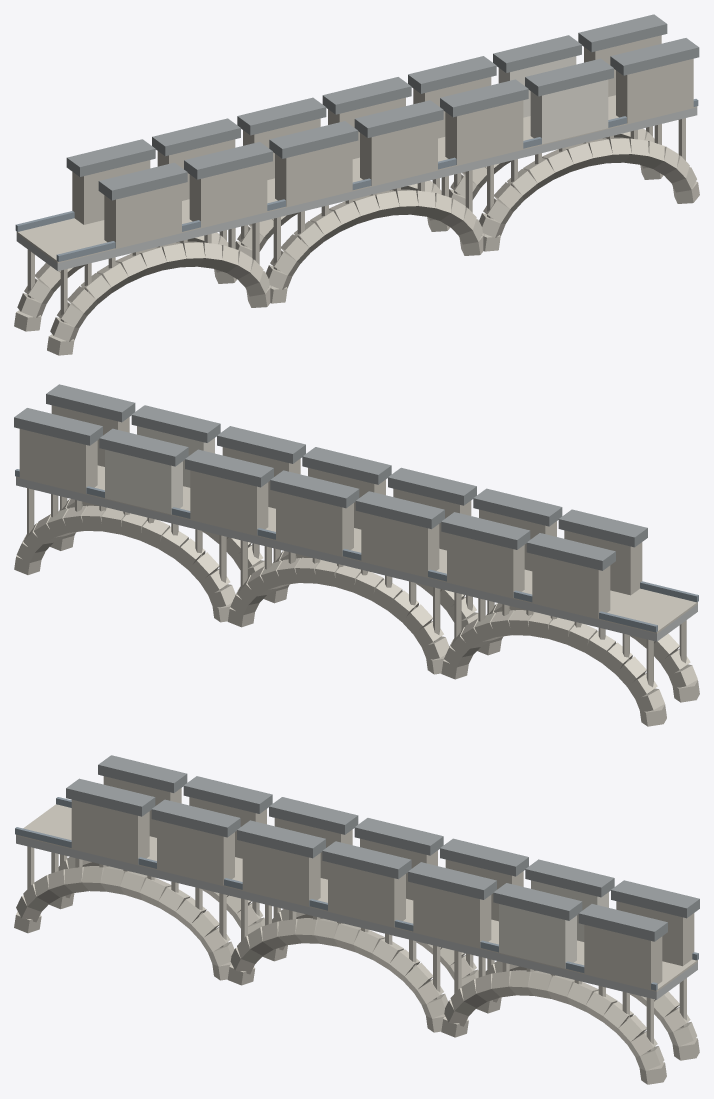
File: source.glb
3 views of the same model, one above another, from view 1: azimuth 30°, elevation 25°; view 2: azimuth 150°, elevation 25°; view 3: azimuth 330°, elevation 25° (orthographic).
Visible parts, largest first — view 1: worldgen; view 2: worldgen; view 3: worldgen.
Part boxes in pixels (x1,y1,x2,y2): worldgen: (14, 14, 699, 355); worldgen: (14, 384, 699, 726); worldgen: (14, 755, 699, 1084).
Bounding box in the file's own units: 137 × 31.35 × 17.
